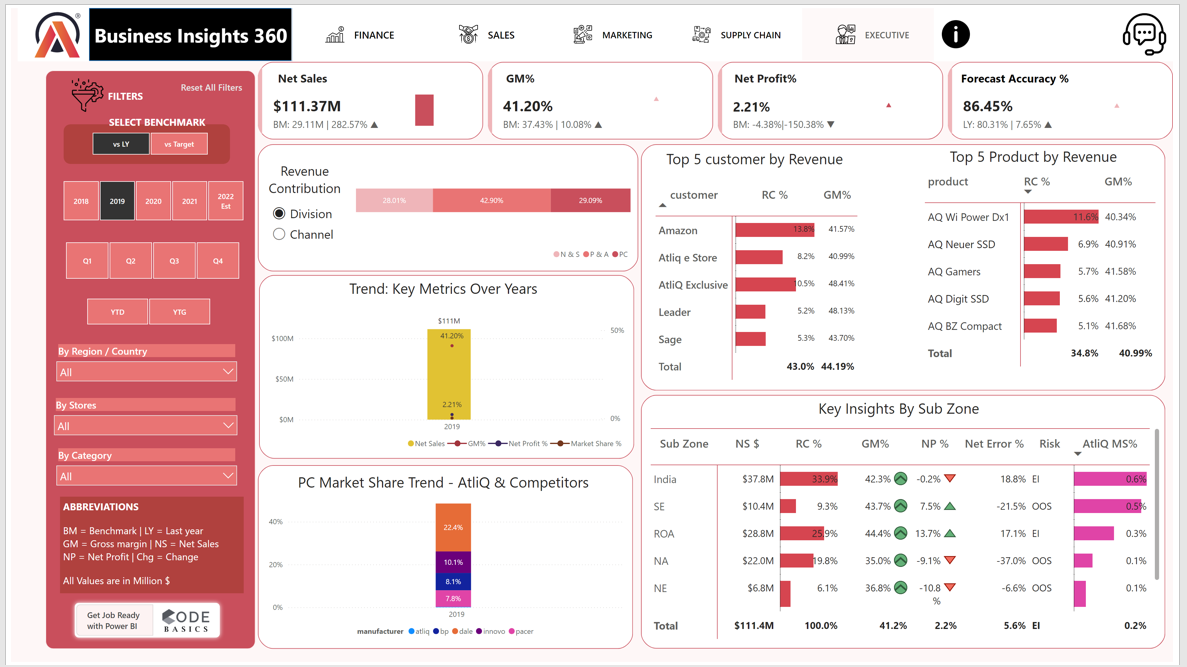

This screenshot's page, from the dashboard's own definition file:
{"tool":"powerbi","page":{"name":"Executive View","canvas":[1920,1080],"ordinal":5},"visuals":[{"type":"shape","box":[1040.7,639.3,866.2,418.9],"z":0},{"type":"shape","box":[97.6,974.8,254.3,72],"z":0,"group":"g1"},{"type":"shape","box":[408,224.7,628.4,209.9],"z":1000},{"type":"shape","box":[107.4,984.8,127,51.7],"z":1000,"group":"g1"},{"type":"shape","box":[10.9,0,1909.1,88],"z":2000},{"type":"image","box":[240.3,991.8,96,40],"z":2000,"group":"g1"},{"type":"image","box":[26.2,0,102.5,87.3],"z":3000},{"type":"shape","box":[128.7,0,336,87.3],"z":4000},{"type":"actionButton","box":[462.5,0,220.4,87.3],"z":5000},{"type":"actionButton","box":[676.4,0,218.2,87.3],"z":6000},{"type":"actionButton","box":[881.5,0,218.2,87.3],"z":7000},{"type":"actionButton","box":[1093.1,0,218.2,87.3],"z":8000},{"type":"actionButton","box":[1306.9,0,218.2,87.3],"z":9000},{"type":"image","box":[1525.1,15.3,72,56.7],"z":10000},{"type":"image","box":[1826.2,2.2,93.8,82.9],"z":11000},{"type":"shape","box":[56.7,102.5,346.9,955.6],"z":12000},{"type":"image","box":[91.6,111.3,69.8,65.5],"z":13000},{"type":"textbox","box":[139.6,128.7,98.2,39.3],"z":14000},{"type":"slicer","fields":{"Values":["fiscal_year.fy_description"]},"box":[61.1,279.3,346.9,78.5],"z":15000},{"type":"slicer","fields":{"Values":["dim_date.Quarter"]},"box":[65.5,379.6,336,74.2],"z":16000},{"type":"slicer","fields":{"Values":["dim_date.ytd_ytg"]},"box":[100.4,473.5,253.1,56.7],"z":17000},{"type":"slicer","fields":{"Values":["gdb041 dim_market.region","gdb041 dim_market.market"]},"box":[65.5,549.8,318.5,72],"z":18000},{"type":"slicer","fields":{"Values":["gdb041 dim_product.category"]},"box":[65.5,722.2,318.5,76.4],"z":19000},{"type":"slicer","fields":{"Values":["gdb041 dim_customer.customer"]},"box":[61.1,639.3,322.9,76.4],"z":20000},{"type":"group","id":"g1","title":"Group 4","box":[97.6,974.8,255.3,72],"z":21000},{"type":"textbox","box":[80.7,807.3,303.3,159.3],"z":22000},{"type":"shape","box":[87.3,192,274.9,65.5],"z":23000},{"type":"textbox","box":[150.5,172.4,181.1,39.3],"z":24000},{"type":"slicer","fields":{"Values":["Set BM.Benchmarks"]},"box":[109.1,198.5,240,50.2],"z":25000},{"type":"actionButton","box":[272.7,104.7,130.9,50.2],"z":26000},{"type":"cardVisual","fields":{"Data":["Report Measure.Net Sales","Report Measure.GM%","Report Measure.Net Profit %","Report Measure.Forecast Accuracy %"]},"box":[408,89.5,1512,128],"z":30000},{"type":"textbox","box":[401.5,98.2,161.5,45.8],"z":31000},{"type":"textbox","box":[785.5,98.2,113.5,45.8],"z":32000},{"type":"textbox","box":[1165.1,98.2,163.6,45.8],"z":33000},{"type":"textbox","box":[1540.4,98.2,237.8,39.3],"z":34000},{"type":"clusteredColumnChart","fields":{"Category":["fiscal_year.fy_description"],"Y":["Report Measure.Net Sales"]},"box":[621.8,111.3,124.4,89.5],"z":35000},{"type":"lineChart","fields":{"Category":["fiscal_year.fy_description"],"Y":["Report Measure.GM%"]},"box":[990.5,96,150.5,113.5],"z":36000},{"type":"lineChart","fields":{"Category":["fiscal_year.fy_description"],"Y":["Report Measure.Net Profit %"]},"box":[1374.5,98.2,150.5,113.5],"z":37000},{"type":"lineChart","fields":{"Category":["fiscal_year.fy_description"],"Y":["Report Measure.Forecast Accuracy %"]},"box":[1752,96,150.5,113.5],"z":38000},{"type":"slicer","fields":{"Values":["Parameter: Division Vs Channel.Parameter: Division Vs Channel"]},"box":[420.2,317,130.4,101.4],"z":39000},{"type":"textbox","box":[410.2,248.7,150.5,69.8],"z":40000},{"type":"hundredPercentStackedBarChart","fields":{"Series":["gdb041 dim_product.division"],"Y":["Report Measure.Net Sales"]},"box":[565.1,233.5,463.9,192],"z":41000},{"type":"shape","box":[1040.7,224.7,866.2,406.7],"z":42000},{"type":"pivotTable","fields":{"Rows":["gdb041 dim_customer.customer"],"Values":["Report Measure.RC %","Report Measure.GM%"]},"box":[1060.4,279.3,412.4,342.5],"z":43000},{"type":"pivotTable","fields":{"Values":["Report Measure.RC %","Report Measure.GM%"],"Rows":["gdb041 dim_product.product"]},"box":[1505.5,257.5,397.1,364.4],"z":44000},{"type":"textbox","box":[1051.6,226.9,353.5,48],"z":45000},{"type":"textbox","box":[1505.5,222.5,368.7,45.8],"z":46000},{"type":"shape","box":[410.2,440.7,619.6,303.3],"z":47000},{"type":"shape","box":[408,754.9,619.6,303.3],"z":48000},{"type":"lineClusteredColumnComboChart","fields":{"Category":["fiscal_year.fy_description"],"Y2":["Report Measure.GM%","Report Measure.Net Profit %","Report Measure.Market Share %"],"Y":["Report Measure.Net Sales"]},"box":[425.5,488.7,593.5,248.7],"z":49000},{"type":"textbox","box":[410.2,440.7,608.7,48],"z":50000},{"type":"textbox","box":[410.2,761.5,608.7,45.8],"z":51000},{"type":"ribbonChart","fields":{"Y":["Report Measure.Market Share %"],"Series":["marketshare.manufacturer"],"Category":["fiscal_year.fy_description"]},"box":[421.1,798.5,597.8,248.7],"z":52000},{"type":"pivotTable","fields":{"Rows":["sub_zone.sub_zone"],"Values":["Report Measure.Net Sales","Report Measure.RC %","Report Measure.GM%","Report Measure.Net Profit %","Report Measure.Net Error %","Report Measure.Risk","Report Measure.AtliQ MS%"]},"box":[1051.6,689.5,850.9,357.8],"z":53000},{"type":"textbox","box":[1060.4,639.3,813.8,50.2],"z":54000}]}

Visuals, with their boxes in screenshot pixels (x1, y1, x2, y2), scaled from the page's 1920x1080 canvas onto the 1187x667 screenshot:
shape: box(643, 395, 1179, 654)
shape: box(60, 602, 218, 646)
shape: box(252, 139, 641, 268)
shape: box(66, 608, 145, 640)
shape: box(7, 0, 1186, 54)
image: box(149, 613, 208, 637)
image: box(16, 0, 80, 54)
shape: box(80, 0, 287, 54)
actionButton: box(286, 0, 422, 54)
actionButton: box(418, 0, 553, 54)
actionButton: box(545, 0, 680, 54)
actionButton: box(676, 0, 811, 54)
actionButton: box(808, 0, 943, 54)
image: box(943, 9, 987, 44)
image: box(1129, 1, 1186, 53)
shape: box(35, 63, 250, 653)
image: box(57, 69, 100, 109)
textbox: box(86, 79, 147, 104)
slicer - fiscal_year.fy_description: box(38, 172, 252, 221)
slicer - dim_date.Quarter: box(40, 234, 248, 280)
slicer - dim_date.ytd_ytg: box(62, 292, 219, 327)
slicer - gdb041 dim_market.region x gdb041 dim_market.market: box(40, 340, 237, 384)
slicer - gdb041 dim_product.category: box(40, 446, 237, 493)
slicer - gdb041 dim_customer.customer: box(38, 395, 237, 442)
"Group 4" group: box(60, 602, 218, 646)
textbox: box(50, 499, 237, 597)
shape: box(54, 119, 224, 159)
textbox: box(93, 106, 205, 131)
slicer - Set BM.Benchmarks: box(67, 123, 216, 154)
actionButton: box(169, 65, 250, 96)
cardVisual - Report Measure.Net Sales x Report Measure.GM%: box(252, 55, 1186, 134)
textbox: box(248, 61, 348, 89)
textbox: box(486, 61, 556, 89)
textbox: box(720, 61, 821, 89)
textbox: box(952, 61, 1099, 85)
clusteredColumnChart - fiscal_year.fy_description x Report Measure.Net Sales: box(384, 69, 461, 124)
lineChart - fiscal_year.fy_description x Report Measure.GM%: box(612, 59, 705, 129)
lineChart - fiscal_year.fy_description x Report Measure.Net Profit %: box(850, 61, 943, 131)
lineChart - fiscal_year.fy_description x Report Measure.Forecast Accuracy %: box(1083, 59, 1176, 129)
slicer - Parameter: Division Vs Channel.Parameter: Division Vs Channel: box(260, 196, 340, 258)
textbox: box(254, 154, 347, 197)
hundredPercentStackedBarChart - gdb041 dim_product.division x Report Measure.Net Sales: box(349, 144, 636, 263)
shape: box(643, 139, 1179, 390)
pivotTable - gdb041 dim_customer.customer x Report Measure.RC %: box(656, 172, 911, 384)
pivotTable - Report Measure.RC % x Report Measure.GM%: box(931, 159, 1176, 384)
textbox: box(650, 140, 869, 170)
textbox: box(931, 137, 1159, 166)
shape: box(254, 272, 637, 459)
shape: box(252, 466, 635, 654)
lineClusteredColumnComboChart - fiscal_year.fy_description x Report Measure.GM%: box(263, 302, 630, 455)
textbox: box(254, 272, 630, 302)
textbox: box(254, 470, 630, 499)
ribbonChart - Report Measure.Market Share % x marketshare.manufacturer: box(260, 493, 630, 647)
pivotTable - sub_zone.sub_zone x Report Measure.Net Sales: box(650, 426, 1176, 647)
textbox: box(656, 395, 1159, 426)
